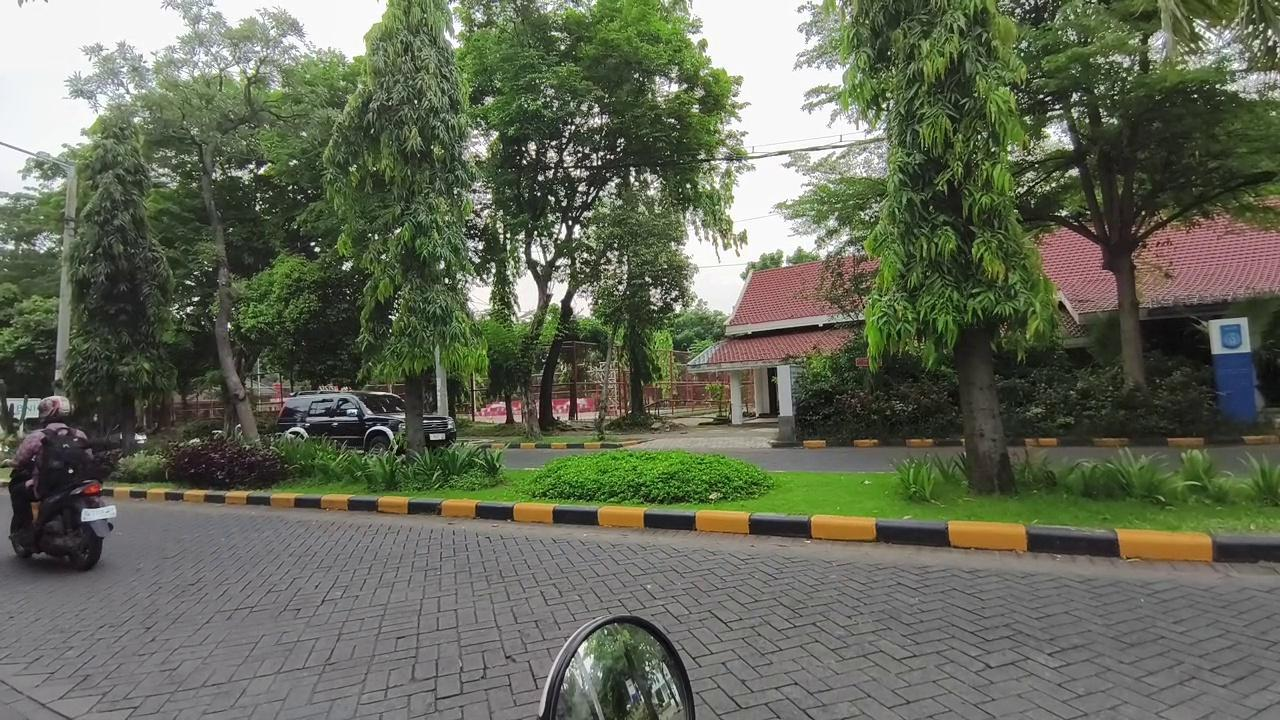Helmet: (8, 396, 87, 541)
Motor: (10, 479, 116, 570)
